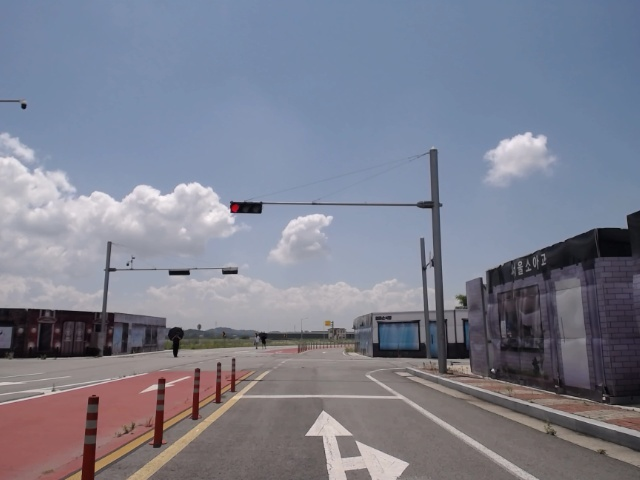red_3: (229, 201, 265, 214)
